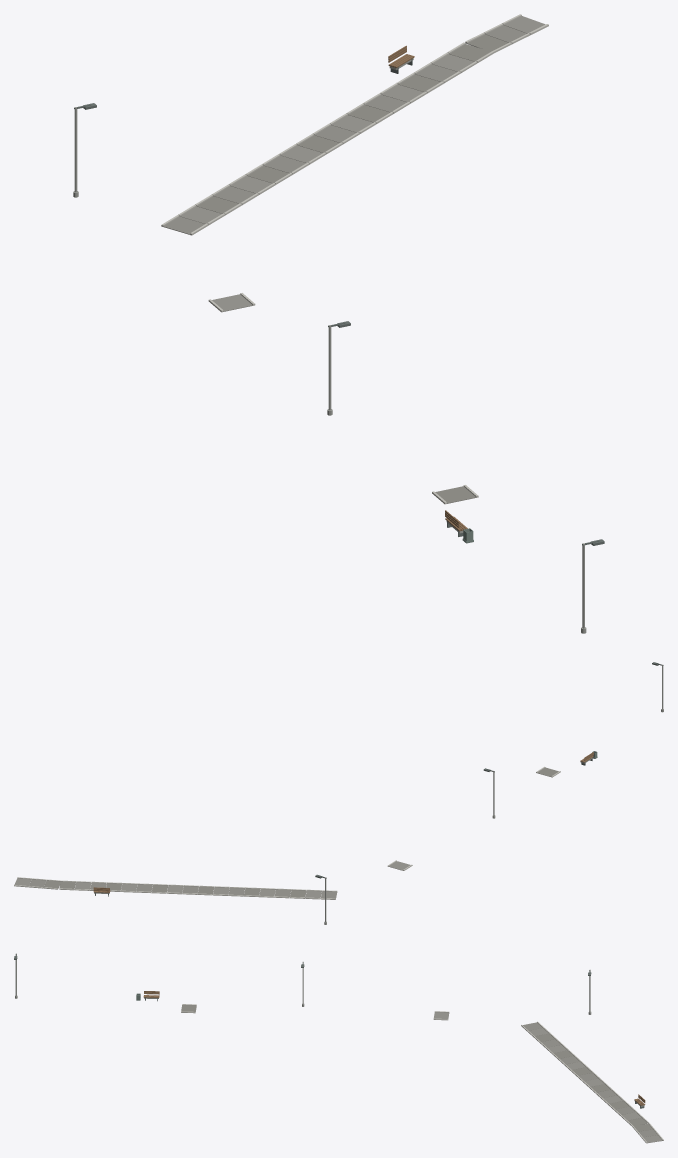
Rendered from district_-1_2.glb.
The picture shows the model from 3 angles, top to bottom: view 1: azimuth 30°, elevation 25°; view 2: azimuth 150°, elevation 25°; view 3: azimuth 270°, elevation 25°; orthographic projection. The views are drawn at different scales.
Visible parts, largest first — view 1: CityPaving, CityCurbs, CitySolid; view 2: CityPaving, CityCurbs; view 3: CityPaving, CityCurbs.
Part boxes in pixels (x1,y1,x2,y2): CityPaving: [163, 16, 545, 503]; CityCurbs: [161, 14, 548, 504]; CitySolid: [73, 58, 586, 633]; CityPaving: [14, 767, 558, 898]; CityCurbs: [14, 766, 560, 899]; CityPaving: [181, 1005, 662, 1143]; CityCurbs: [181, 1004, 663, 1143].
Bounding box in the file's own units: 40.79 × 5.8 × 76.85.
